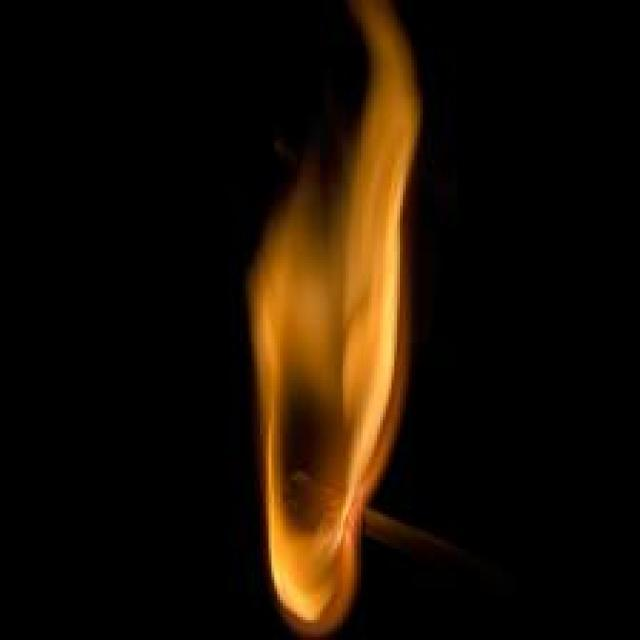Fire: (244, 0, 424, 640)
